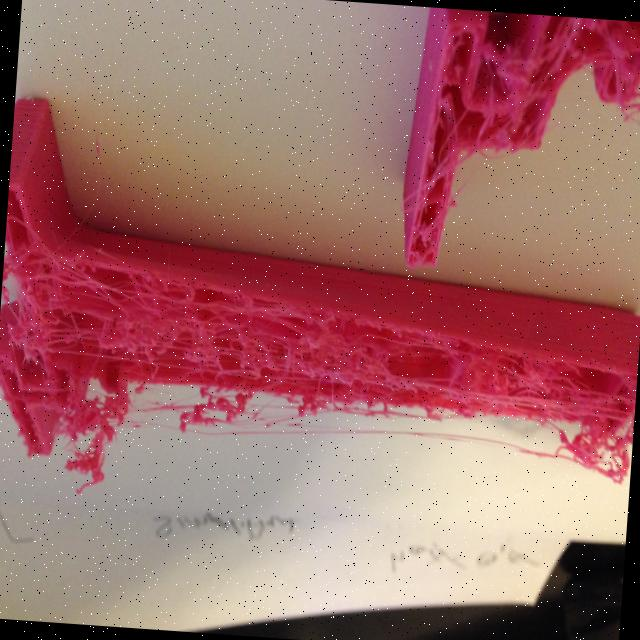stringing: (65, 334, 634, 532), (454, 36, 542, 176), (5, 272, 76, 372), (586, 18, 640, 125)
